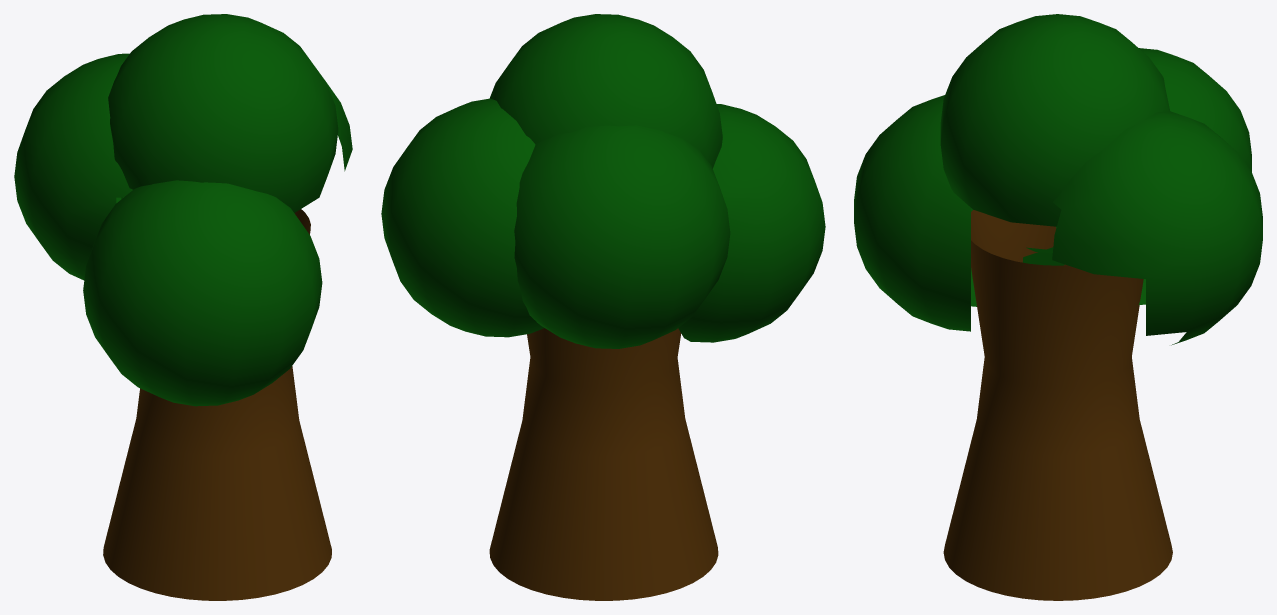
The model's file is TreeNewLowPoly.fbx.
3 renders of one model, left to right at view 1: azimuth 30°, elevation 25°; view 2: azimuth 150°, elevation 25°; view 3: azimuth 270°, elevation 25°, orthographic.
Visible parts, largest first — view 1: pCylinder2; view 2: pCylinder2; view 3: pCylinder2.
Part boxes in pixels (left/top/right/bottom): pCylinder2: left=14, top=14, right=352, bottom=600; pCylinder2: left=381, top=14, right=825, bottom=600; pCylinder2: left=854, top=14, right=1262, bottom=600.
Size of the model in its own units: 3.13 by 4.85 by 3.41.
